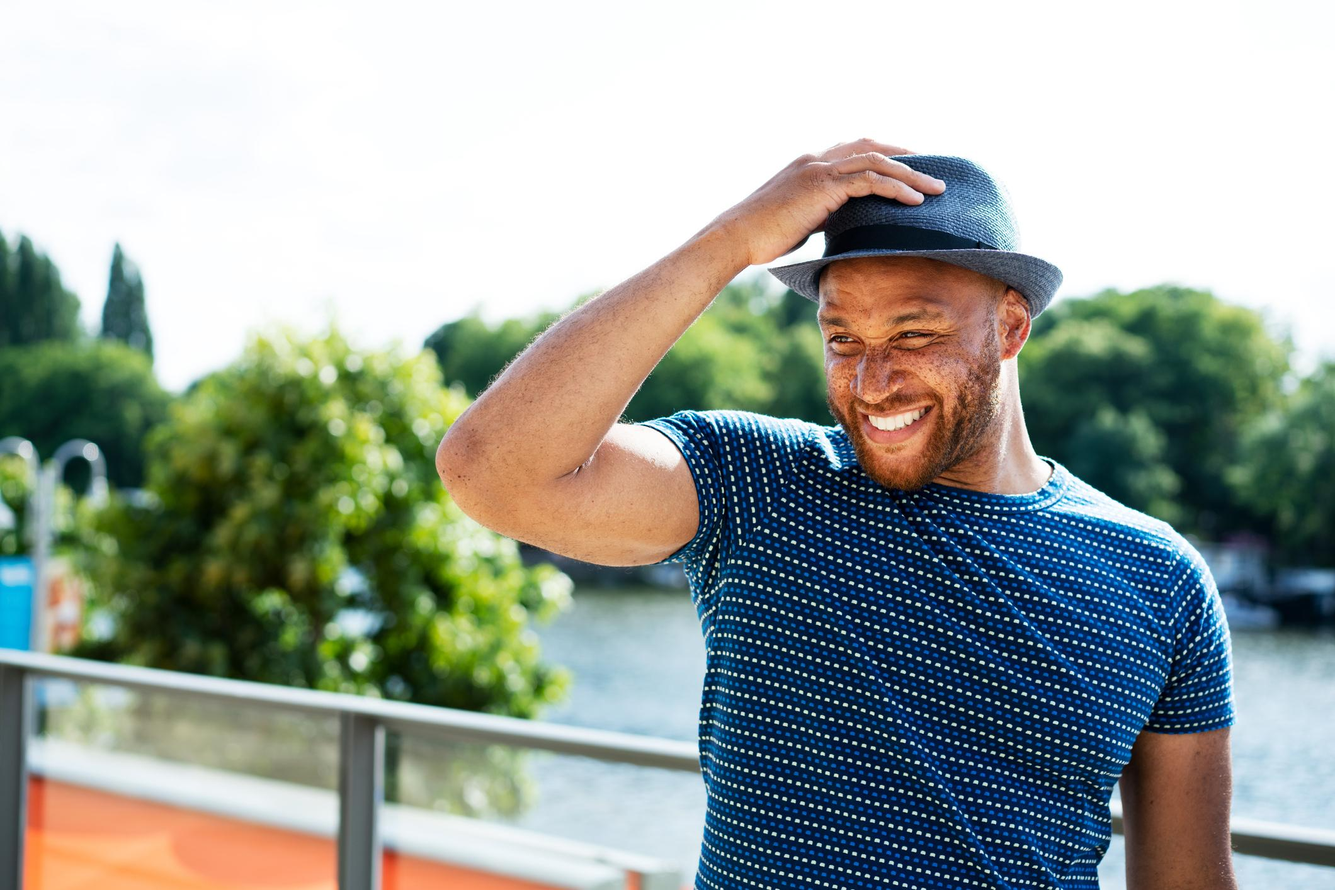cap: (766, 137, 1071, 332)
